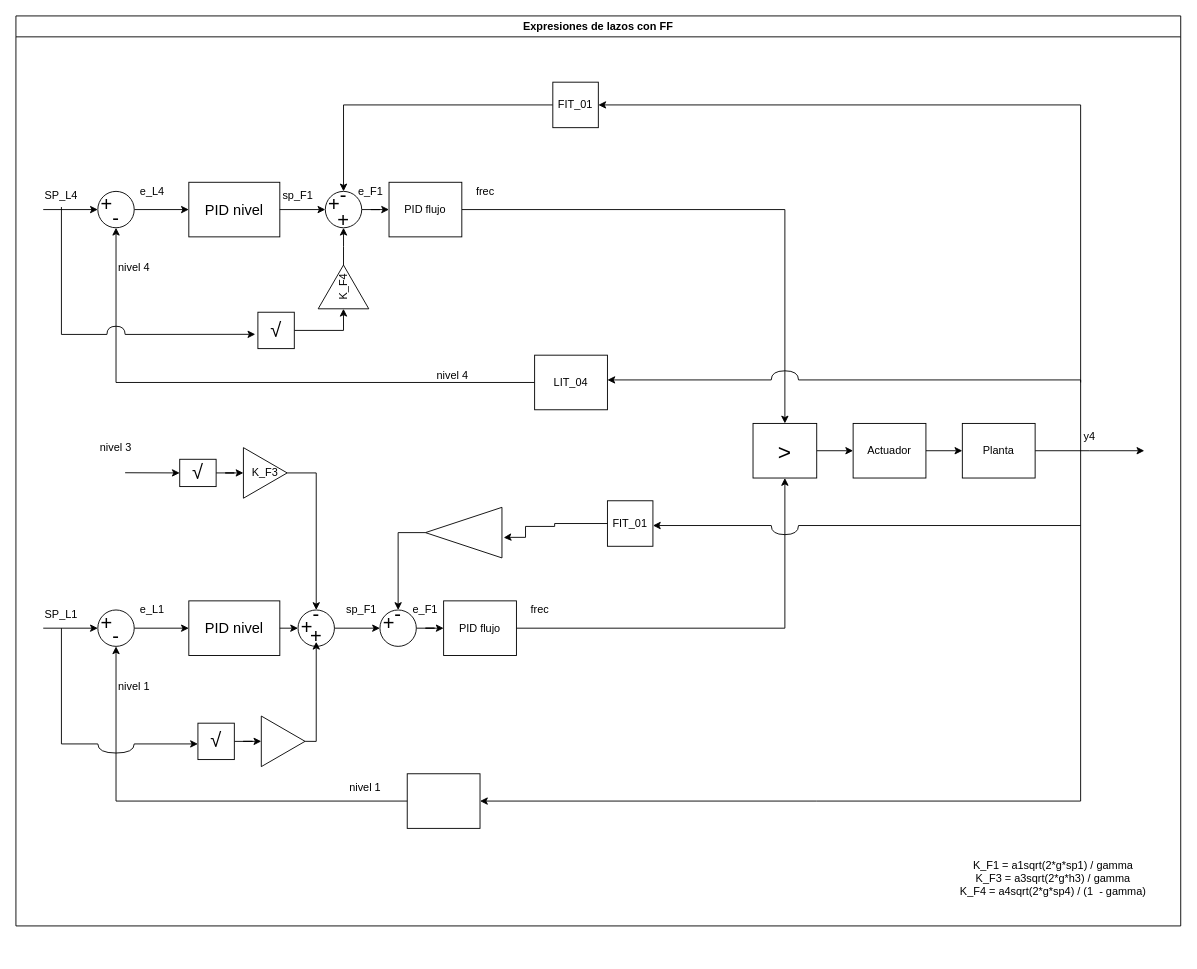
Image size: 1197x969. Some labels were removed from this diagram. Each missing label, with the centre of its shape:
gamma1: point (463, 532)
K_F1: point (282, 741)
LIT_01: point (443, 800)
